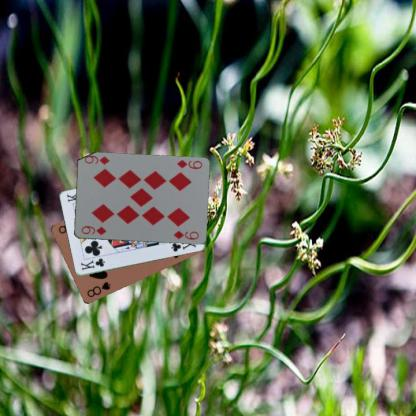8s: (84, 279, 112, 299)
9d: (174, 157, 203, 171), (78, 224, 108, 236)
Kc: (78, 256, 106, 272)
